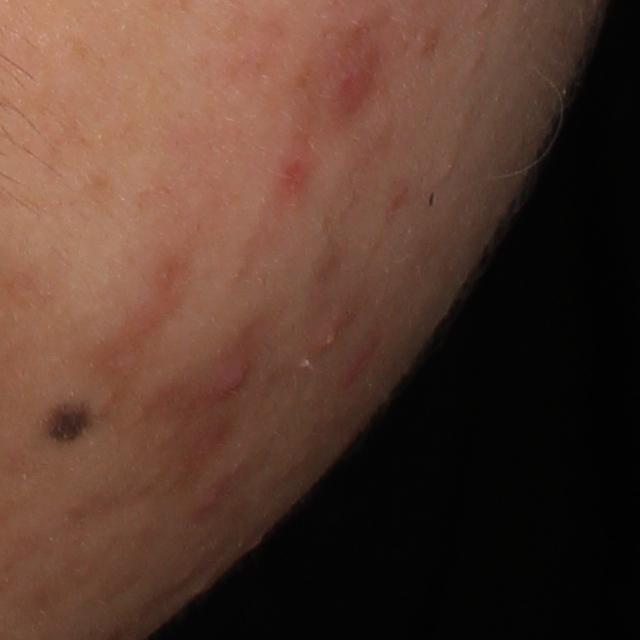nevus: (43, 397, 95, 443)
papule: (318, 24, 386, 127), (272, 140, 316, 205), (207, 350, 257, 404), (191, 482, 229, 521)
